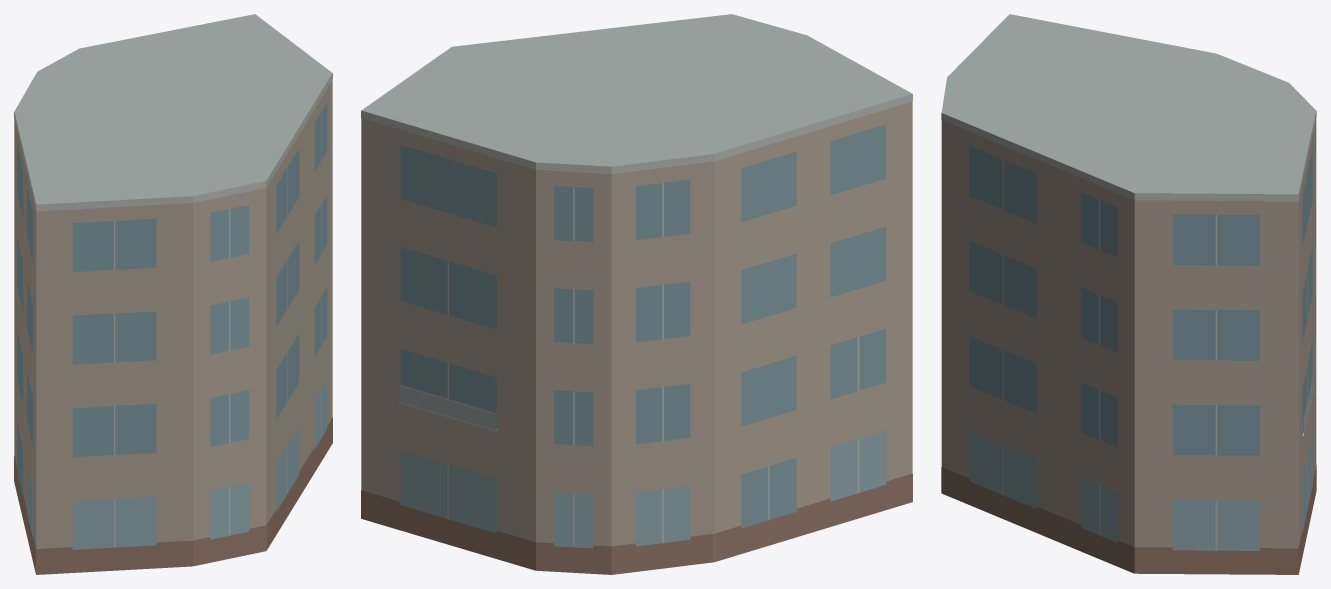
The model's file is survey-upis-32487125.glb.
3 renders of one model, left to right at view 1: azimuth 30°, elevation 25°; view 2: azimuth 150°, elevation 25°; view 3: azimuth 270°, elevation 25°, orthographic. The views are drawn at different scales.
Parts seen in each view (by area): view 1: survey-upis-32487125.tmp; view 2: survey-upis-32487125.tmp; view 3: survey-upis-32487125.tmp.
Boxes of the visible parts, <box> form: survey-upis-32487125.tmp: <box>14,14,332,574</box>; survey-upis-32487125.tmp: <box>361,14,912,574</box>; survey-upis-32487125.tmp: <box>941,14,1316,574</box>.
Size of the model in its own units: 13.43 by 13.2 by 11.8.
